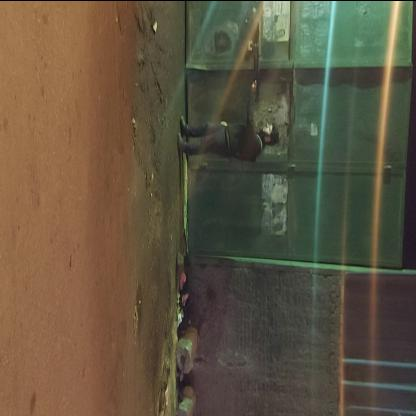long weapon: (241, 36, 269, 108)
